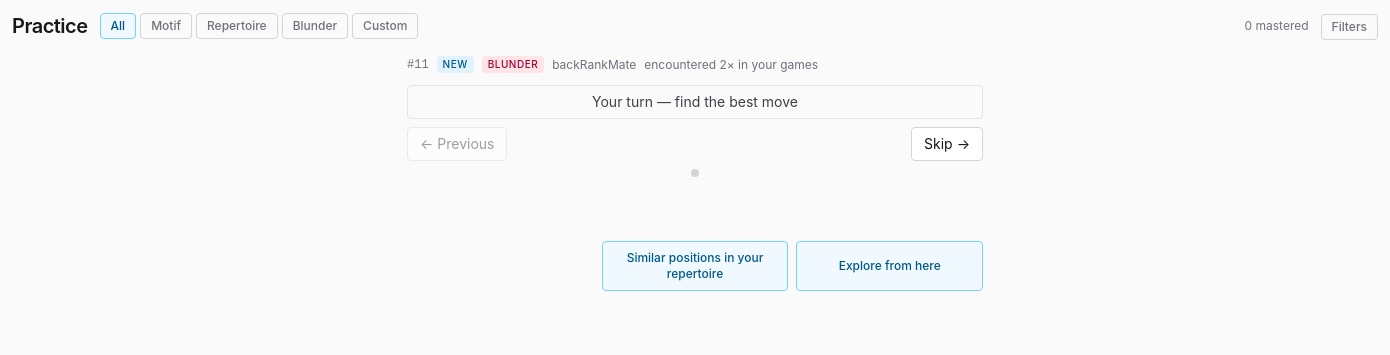
Test: Practice page › appends a new batch keyed by play_batch_id without resetting the cursor, prefetching at remainingAhead+1 <= threshold
Expected: the text "#11" is shown, [407,57,429,73]
Click the button "Skip →" at (947, 144), box [911,127,983,161]
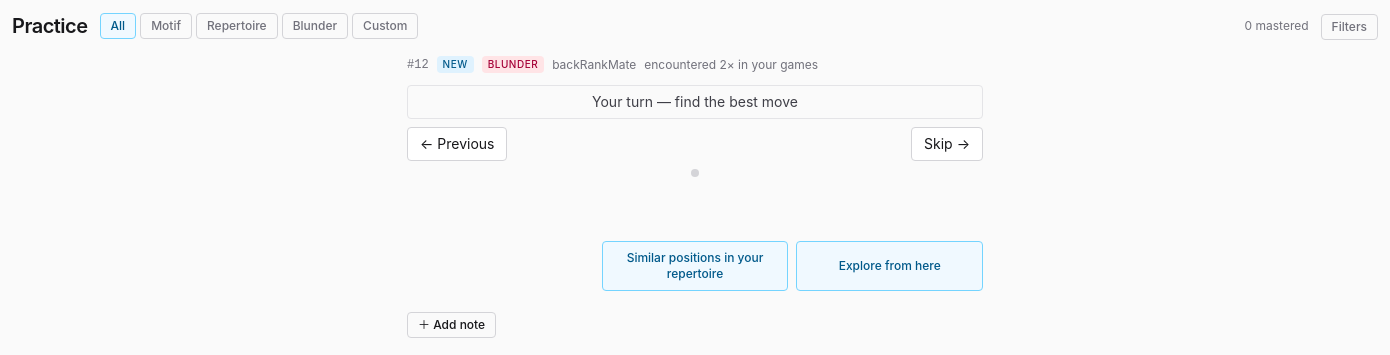
Expected: the text "#12" is shown, [407,57,429,73]
Expected: the text "#11" is gone
Click the button "Skip →" at (947, 144), box [911,127,983,161]
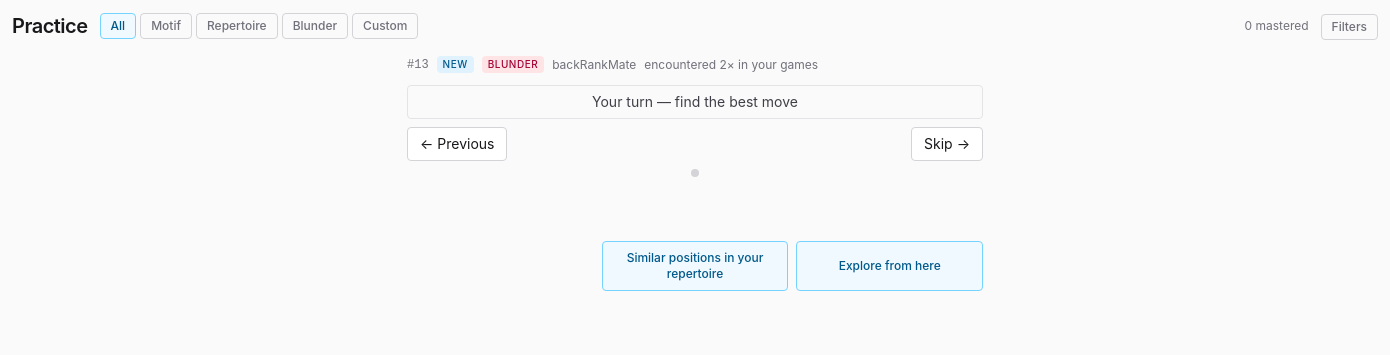
Expected: the text "#13" is shown, [407,57,429,73]
Click the button "← Previous" at (457, 144), box [407,127,508,161]
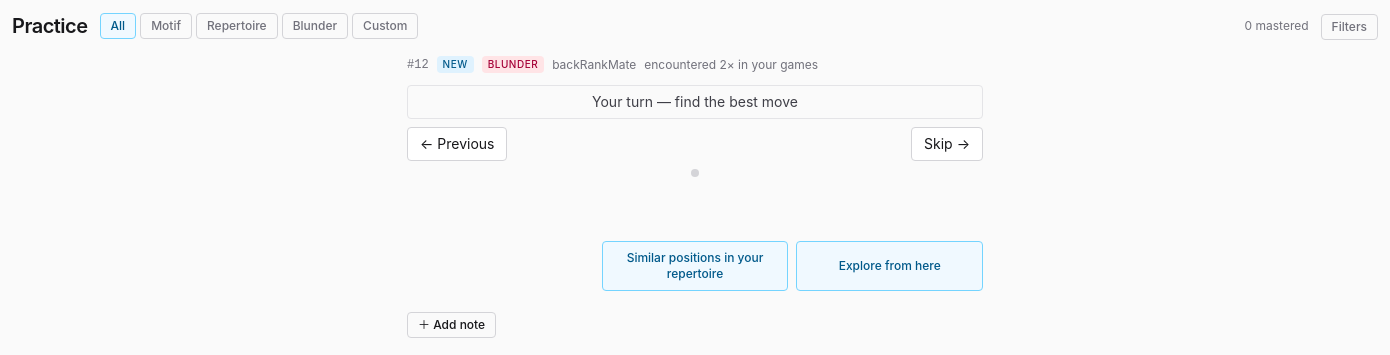
Expected: the text "#12" is shown, [407,57,429,73]
